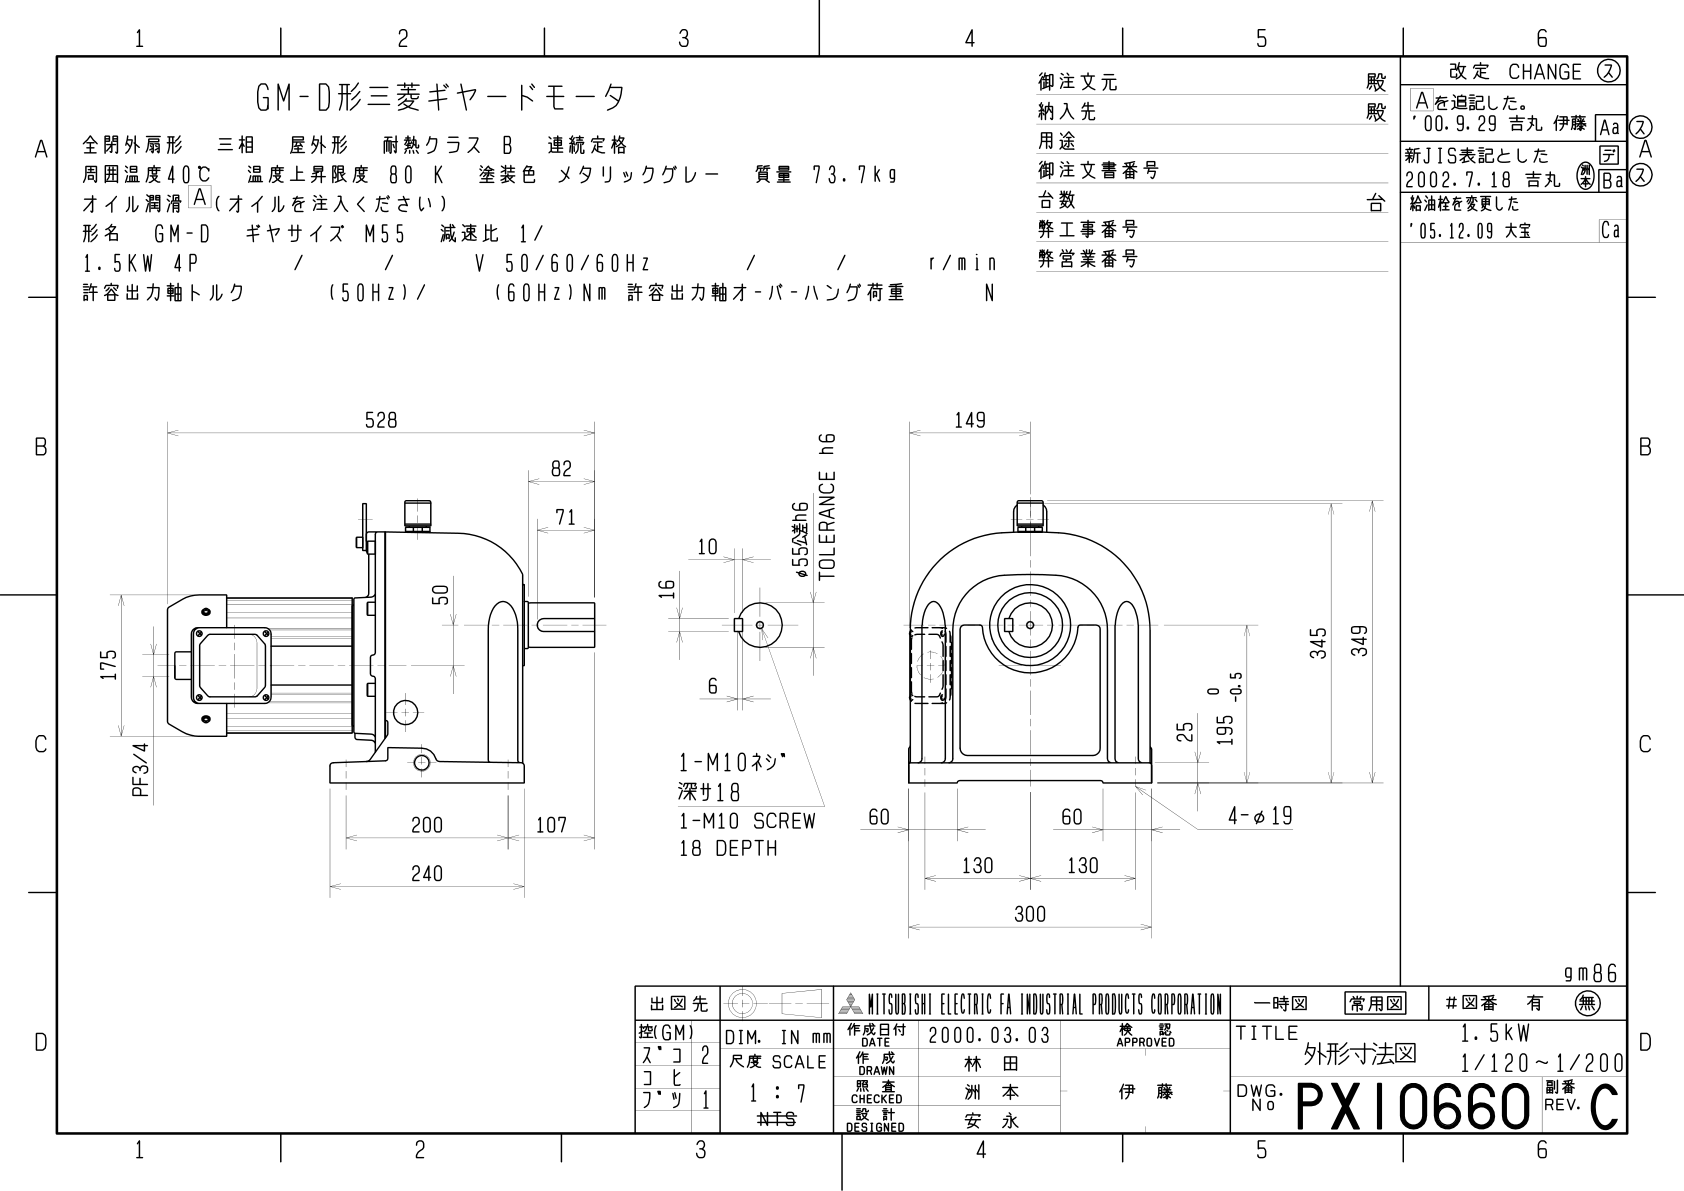GM_D_屋外＿三相_脚: (77, 365, 1389, 938)
